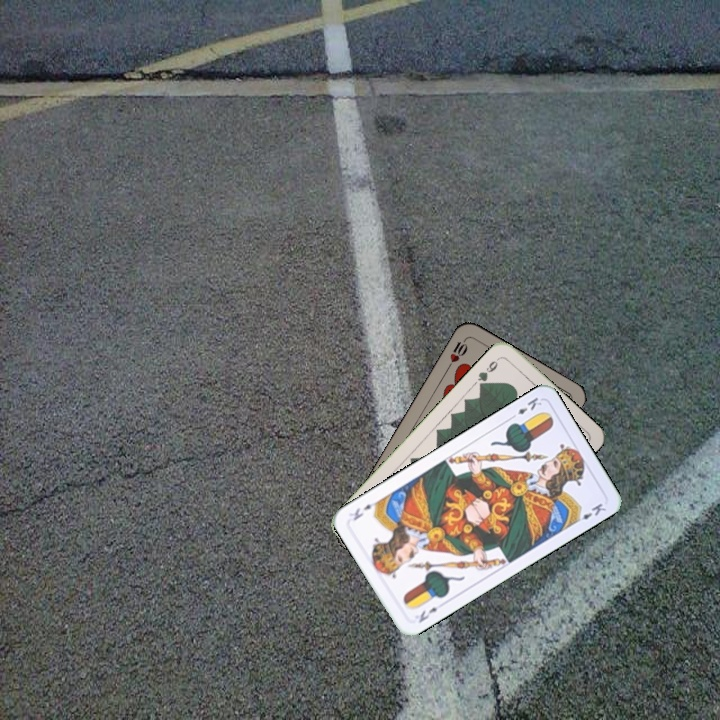EK: (506, 393, 544, 422), (414, 603, 440, 626)
G9: (473, 353, 503, 390)
H10: (443, 334, 470, 371)
